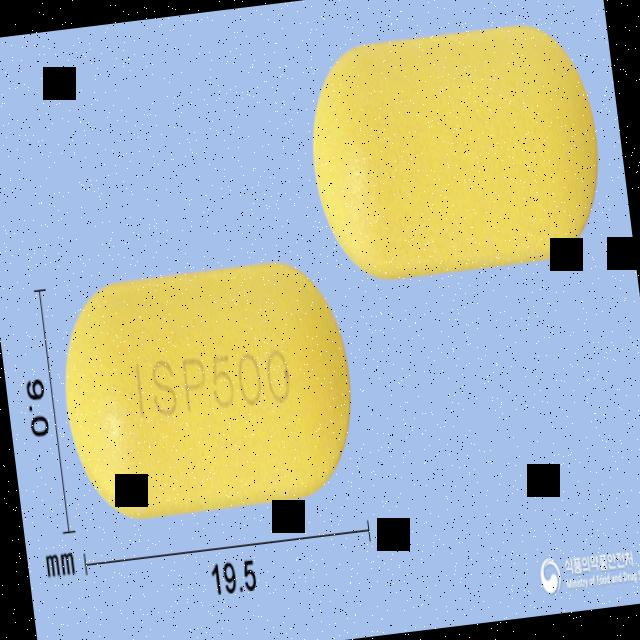Ilsung Clarithromycin: (51, 251, 366, 523)
